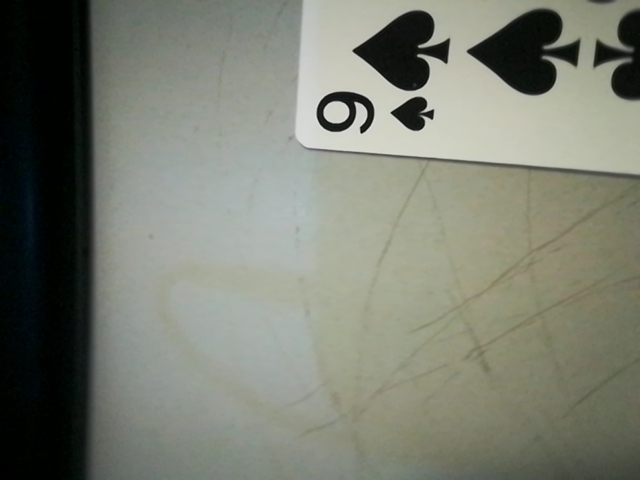ht 9: (299, 71, 447, 154)
